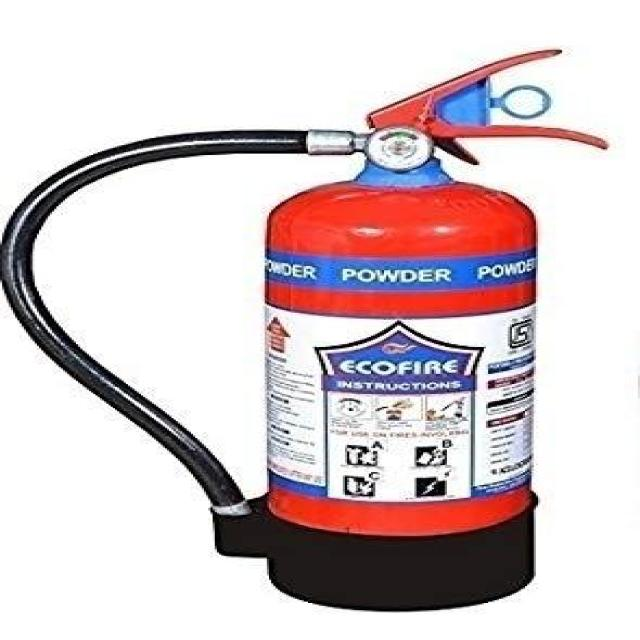fire_extinguisher: (0, 38, 618, 615)
